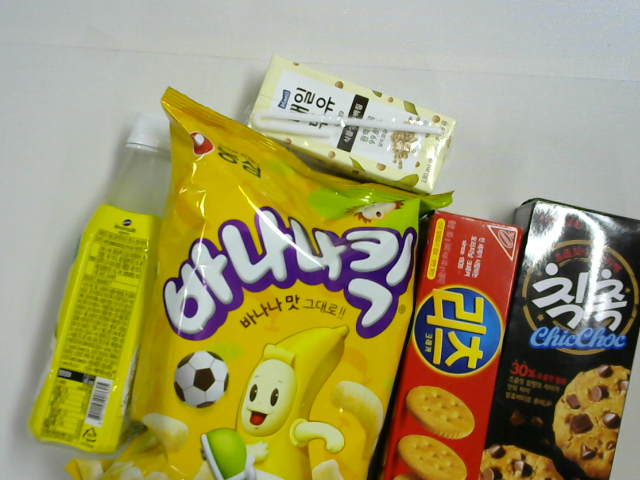99.89_Soymilk: (244, 54, 459, 193)
Banana_Kick: (65, 87, 457, 480)
Chicchok_Original_2400: (475, 198, 639, 480)
Ritz_Cracker: (374, 210, 524, 480)
Sunkist_Lemonaid_Pet: (27, 111, 181, 458)
